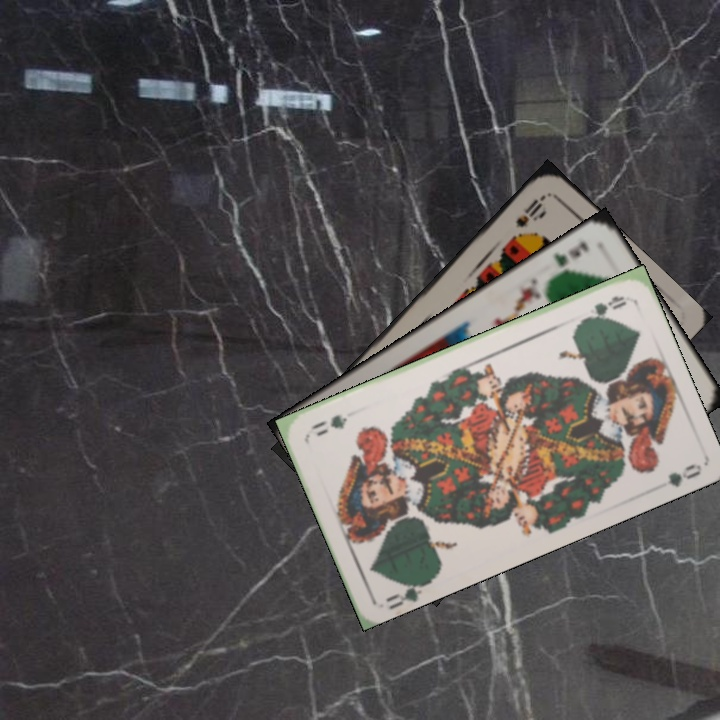GK: (549, 237, 592, 270)
GO: (575, 291, 629, 327), (382, 573, 434, 610)
S10: (511, 190, 549, 231)
